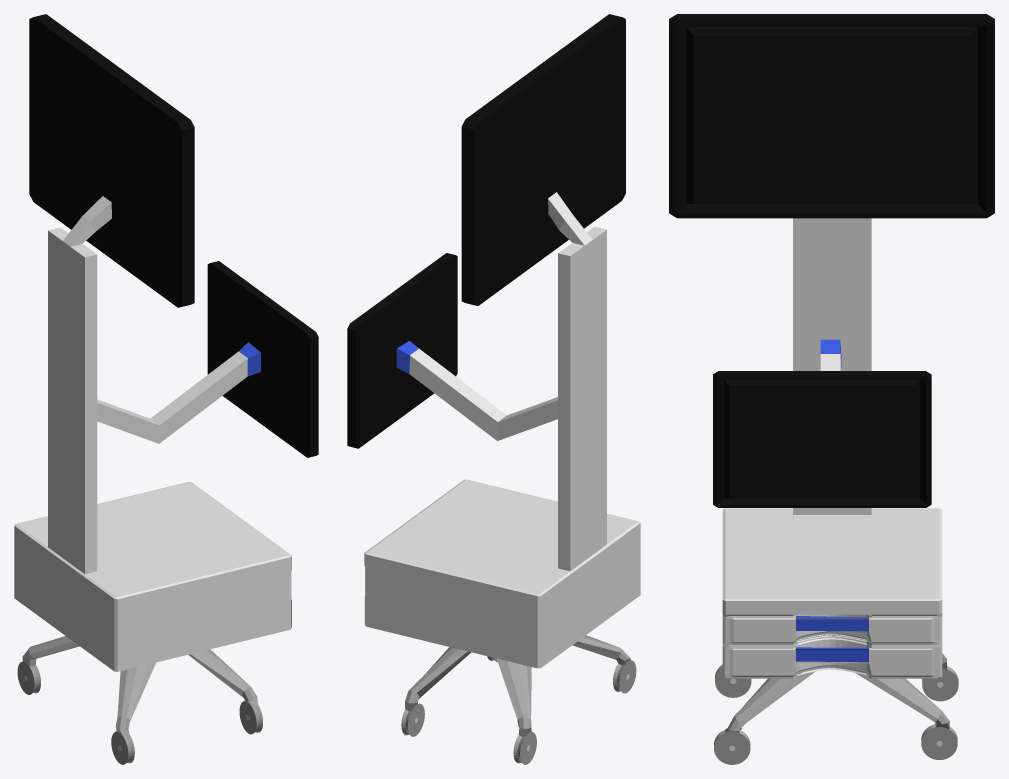
Rendered from screens.fbx.
3 views of the same model, side by side, from view 1: azimuth 30°, elevation 25°; view 2: azimuth 150°, elevation 25°; view 3: azimuth 270°, elevation 25° (orthographic). The views are drawn at different scales.
Visible parts, largest first — view 1: screens; view 2: screens; view 3: screens.
Part boxes in pixels (x1=…): screens: x1=14, y1=14, x2=318, y2=764; screens: x1=347, y1=14, x2=640, y2=764; screens: x1=669, y1=14, x2=994, y2=764.
Bounding box in the file's own units: 107 × 337 × 142.
